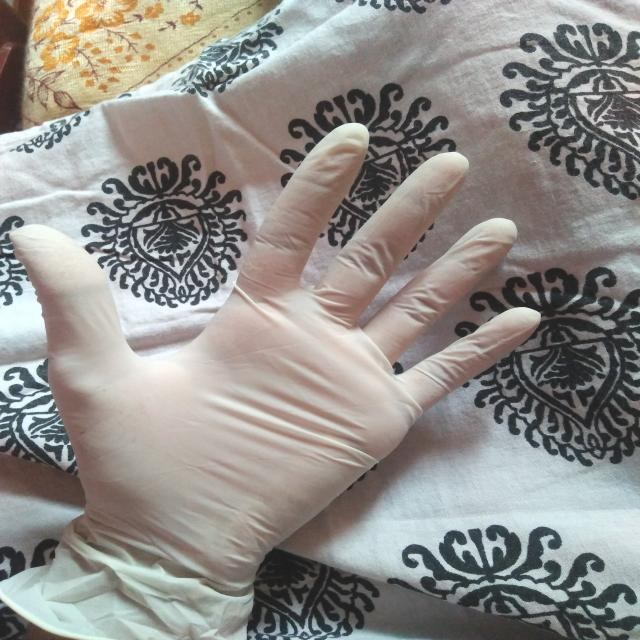glove: (4, 111, 549, 636)
